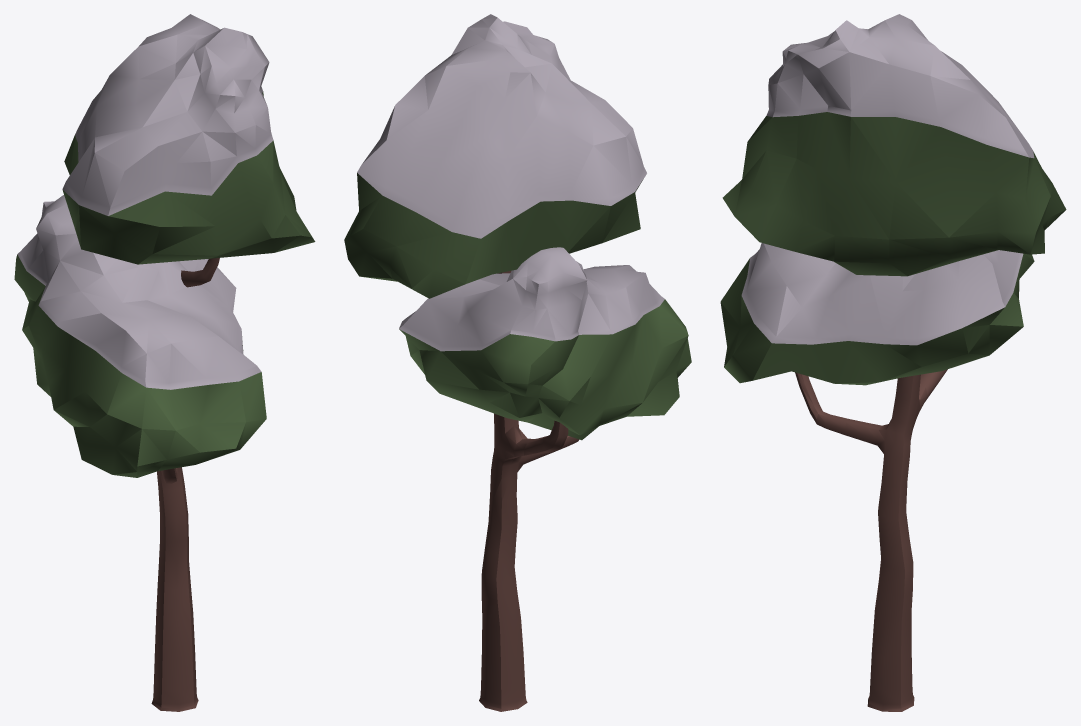
File: tree_broadleaf_snow_1.glb
The picture shows the model from 3 angles, left to right: view 1: azimuth 30°, elevation 25°; view 2: azimuth 150°, elevation 25°; view 3: azimuth 270°, elevation 25°; orthographic projection. The views are drawn at different scales.
Parts seen in each view (by area): view 1: tree_broadleaf_snow_1; view 2: tree_broadleaf_snow_1; view 3: tree_broadleaf_snow_1.
Part boxes in pixels (x1,y1,x2,y2): tree_broadleaf_snow_1: (14, 14, 315, 711); tree_broadleaf_snow_1: (344, 14, 691, 711); tree_broadleaf_snow_1: (720, 14, 1066, 711).
Bounding box in the file's own units: 3.3 × 9 × 4.05.
